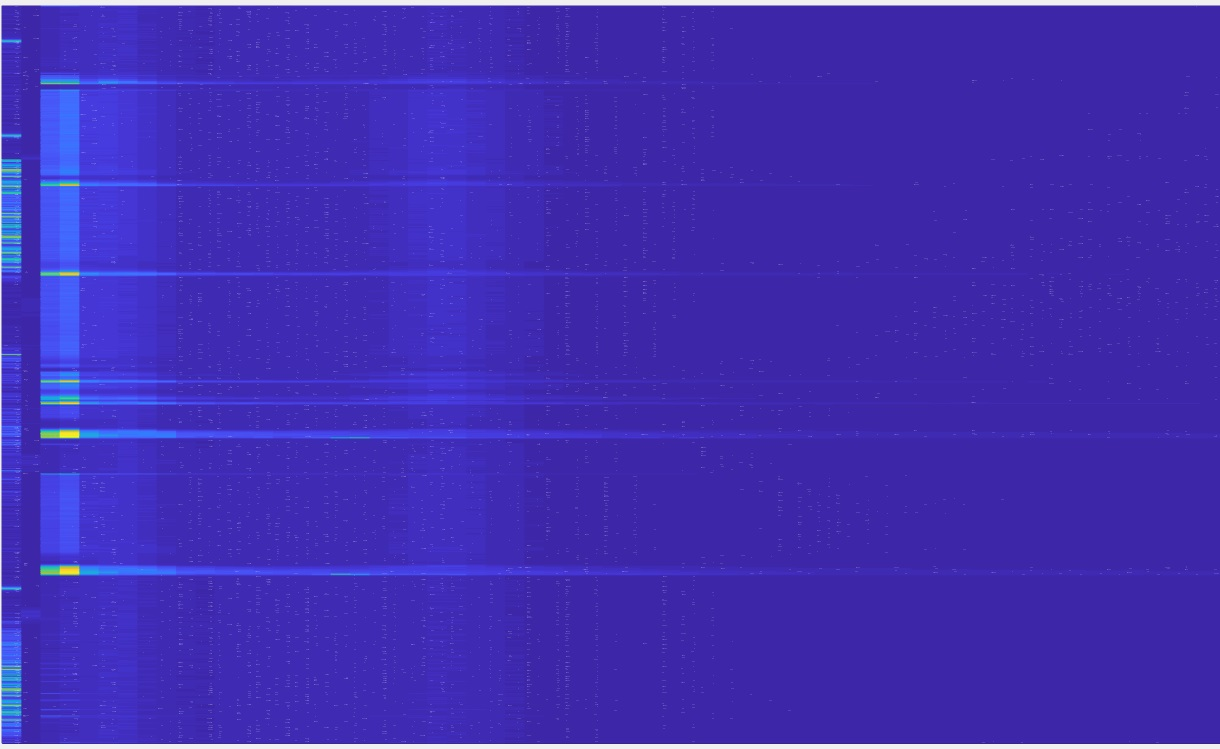leak: (26, 468, 333, 552), (31, 88, 319, 170), (26, 288, 331, 361), (31, 201, 326, 263)
